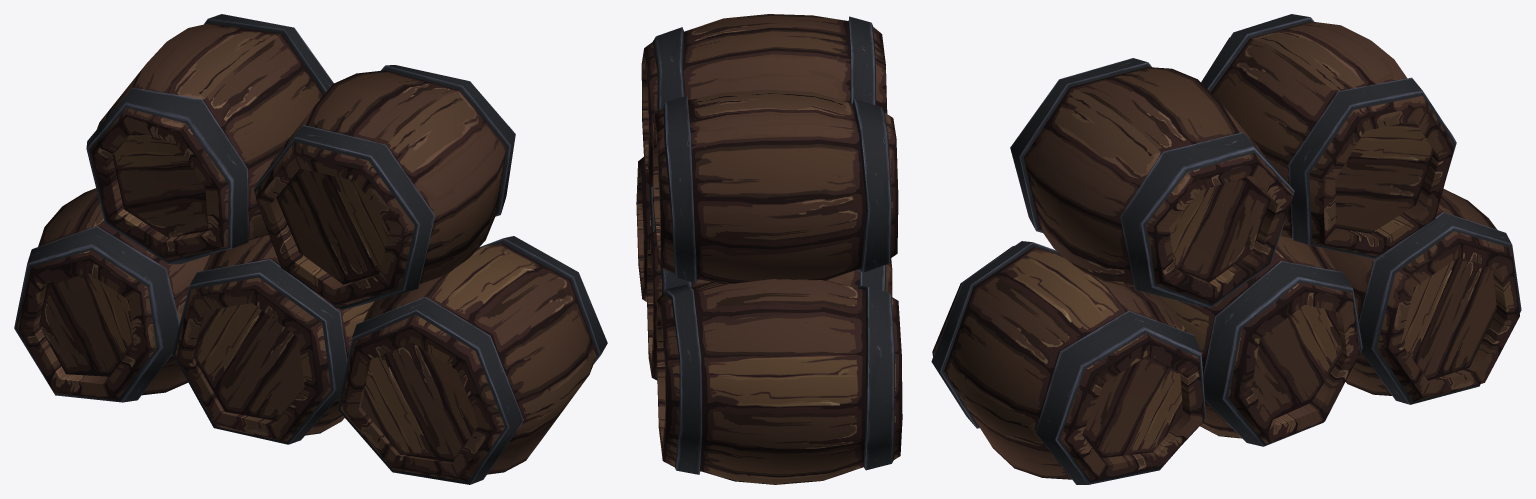
File: GardenBarrels.fbx
The picture shows the model from 3 angles, left to right: view 1: azimuth 30°, elevation 25°; view 2: azimuth 150°, elevation 25°; view 3: azimuth 270°, elevation 25°; orthographic projection. The views are drawn at different scales.
Parts seen in each view (by area): view 1: SM_PROP_barrel_dungeon_03.005; view 2: SM_PROP_barrel_dungeon_03.005; view 3: SM_PROP_barrel_dungeon_03.005.
Part boxes in pixels (x1=…): SM_PROP_barrel_dungeon_03.005: x1=14, y1=14, x2=607, y2=484; SM_PROP_barrel_dungeon_03.005: x1=636, y1=14, x2=902, y2=484; SM_PROP_barrel_dungeon_03.005: x1=931, y1=14, x2=1521, y2=484.
Size of the model in its own units: 3.06 by 2.3 by 3.6.
1 material, 1 textured.
